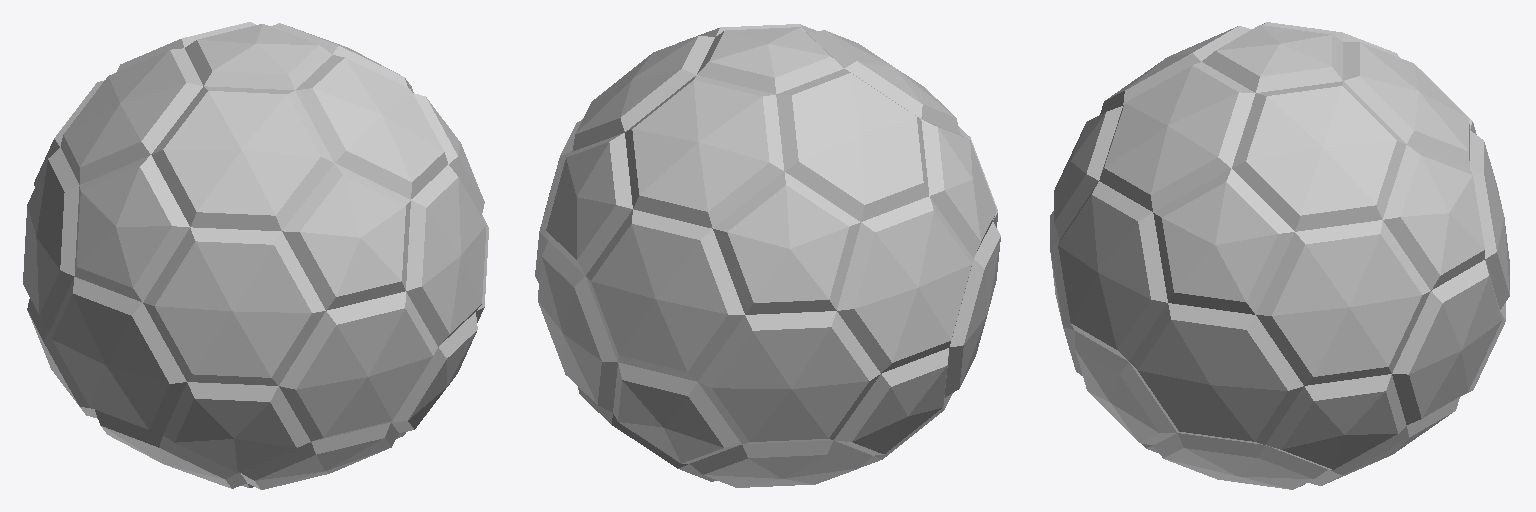
File: football.obj
The picture shows the model from 3 angles: view 1: azimuth 30°, elevation 25°; view 2: azimuth 150°, elevation 25°; view 3: azimuth 270°, elevation 25°; orthographic projection.
Visible parts, largest first — view 1: football; view 2: football; view 3: football.
Part boxes in pixels (bbox=[...]): football: bbox=[23, 22, 488, 489]; football: bbox=[535, 24, 1000, 487]; football: bbox=[1050, 22, 1509, 489].
Bounding box in the file's own units: 0.5689 × 0.5768 × 0.5665.